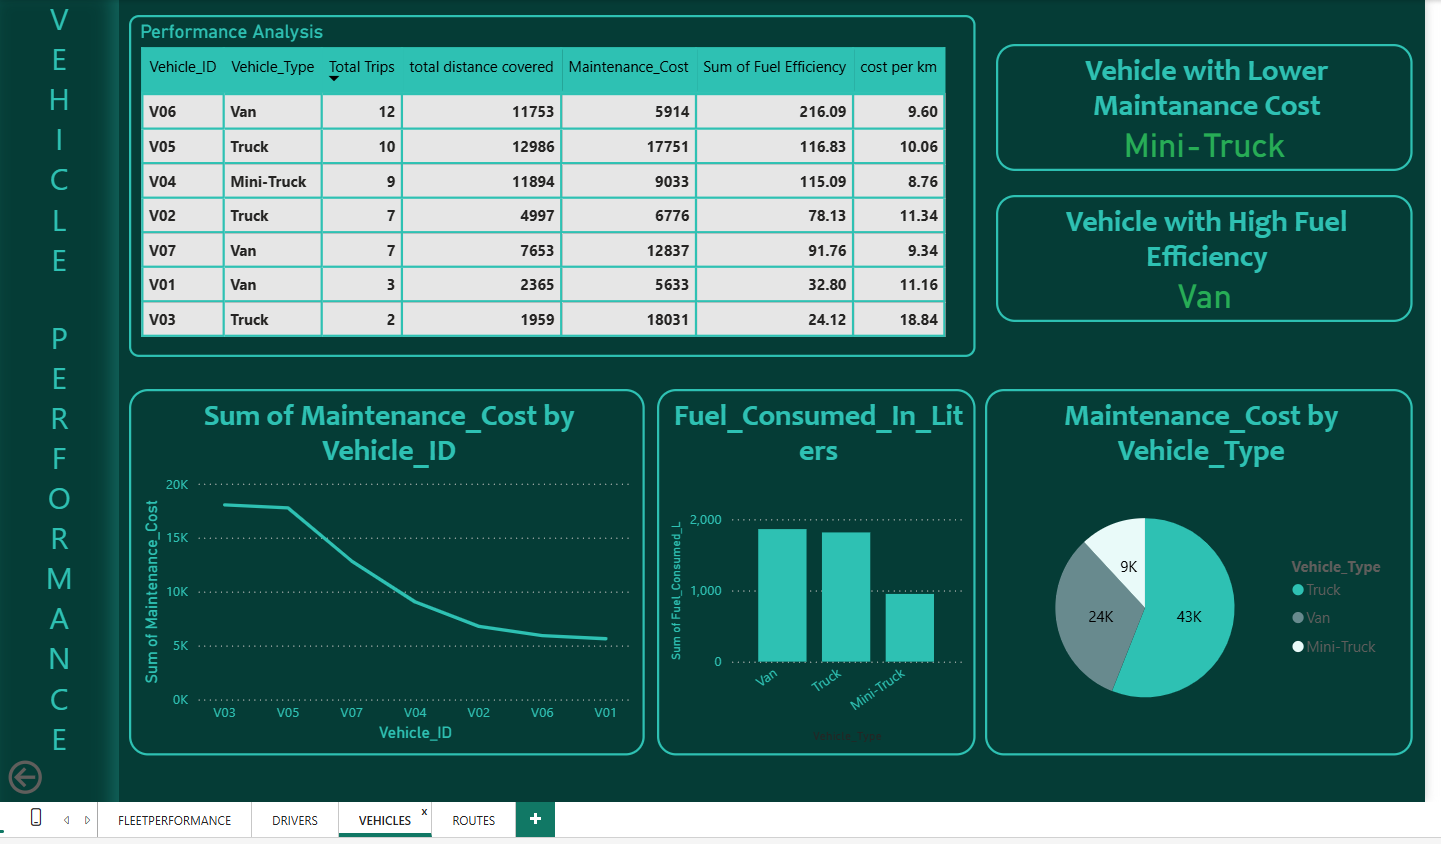

What the dashboard file says about the page in this screenshot:
{"tool":"powerbi","page":{"name":"VEHICLES","canvas":[1280,720],"ordinal":2},"visuals":[{"type":"textbox","box":[0,0,108,1079.6],"z":0},{"type":"tableEx","title":"Performance Analysis","fields":{"Values":["Table1.Vehicle_ID","Vehicle_Master.Vehicle_Type","measure.Total Trips","measure.total distance covered","Vehicle_Master.Maintenance_Cost","Sum(Table1.Fuel Efficiency)","measure.cost per km"]},"box":[116.7,13.6,759.6,307.4],"z":1000},{"type":"lineChart","fields":{"Category":["Vehicle_Master.Vehicle_ID"],"Y":["Sum(Vehicle_Master.Maintenance_Cost)"]},"box":[116.7,349.2,463,328.8],"z":2000},{"type":"clusteredColumnChart","title":" Fuel_Consumed_In_Liters","fields":{"Category":["Vehicle_Master.Vehicle_Type"],"Y":["Sum(Table1.Fuel_Consumed_L)"]},"box":[590.4,349.2,286,328.8],"z":3000},{"type":"pieChart","title":"Maintenance_Cost by Vehicle_Type","fields":{"Category":["Vehicle_Master.Vehicle_Type"],"Y":["Sum(Vehicle_Master.Maintenance_Cost)"]},"box":[885.1,349.2,384.2,328.8],"z":4000},{"type":"actionButton","box":[3.9,677.9,100.2,39.9],"z":5000},{"type":"card","title":"Vehicle with Lower Maintanance Cost","fields":{"Values":["Min(Vehicle_Master.Vehicle_Type)"]},"box":[894.8,39.9,374.5,113.8],"z":6000},{"type":"card","title":"Vehicle with High Fuel Efficiency","fields":{"Values":["Min(Vehicle_Master.Vehicle_Type)"]},"box":[894.8,175.1,374.5,113.8],"z":7000}]}

Visuals, with their boxes on the page's 1280x720 design canvas (x1, y1, x2, y2). These are canvas units, not pixel positions in the 1441x844 screenshot, which may show the page scaled, cropped or inside an application window:
textbox: [0,0,108,1080]
"Performance Analysis" tableEx: [117,14,876,321]
lineChart - Vehicle_Master.Vehicle_ID x Sum(Vehicle_Master.Maintenance_Cost): [117,349,580,678]
" Fuel_Consumed_In_Liters" clusteredColumnChart: [590,349,876,678]
"Maintenance_Cost by Vehicle_Type" pieChart: [885,349,1269,678]
actionButton: [4,678,104,718]
"Vehicle with Lower Maintanance Cost" card: [895,40,1269,154]
"Vehicle with High Fuel Efficiency" card: [895,175,1269,289]
